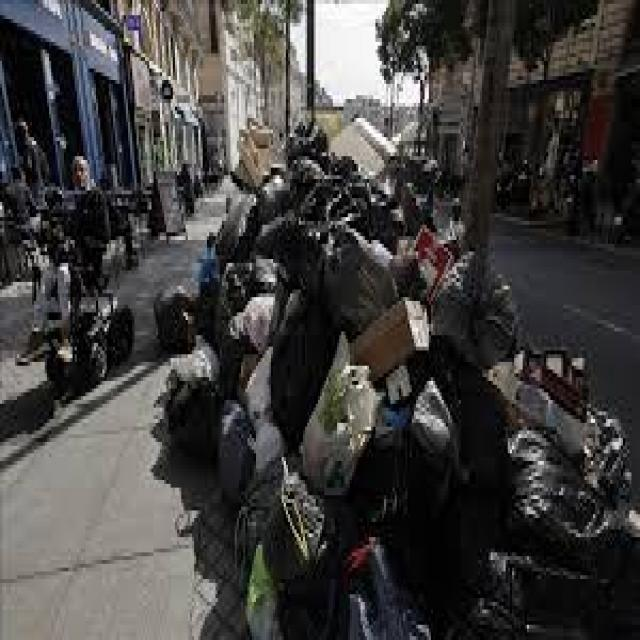garbage: (179, 168, 442, 636), (358, 233, 638, 636)
